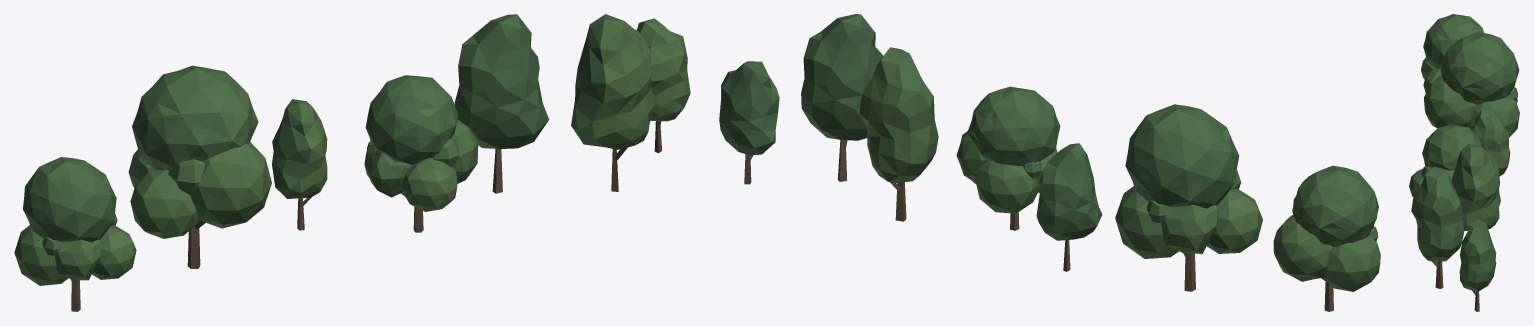
File: treesCluster1.glb
3 renders of one model, left to right at view 1: azimuth 30°, elevation 25°; view 2: azimuth 150°, elevation 25°; view 3: azimuth 270°, elevation 25°, orthographic. The views are drawn at different scales.
Visible parts, largest first — view 1: tree-lime-merged, tree-beech-merged; view 2: tree-lime-merged, tree-beech-merged; view 3: tree-lime-merged, tree-beech-merged.
Boxes of the visible parts, x1,y1,x2,y2 form: tree-lime-merged: [14, 65, 478, 311]; tree-beech-merged: [272, 14, 690, 230]; tree-lime-merged: [956, 86, 1380, 311]; tree-beech-merged: [719, 14, 1102, 271]; tree-lime-merged: [1409, 14, 1519, 197]; tree-beech-merged: [1411, 109, 1510, 311].
Size of the model in its own units: 74.4 by 20.08 by 15.89.
Materials: 2 (2 with a texture image).
